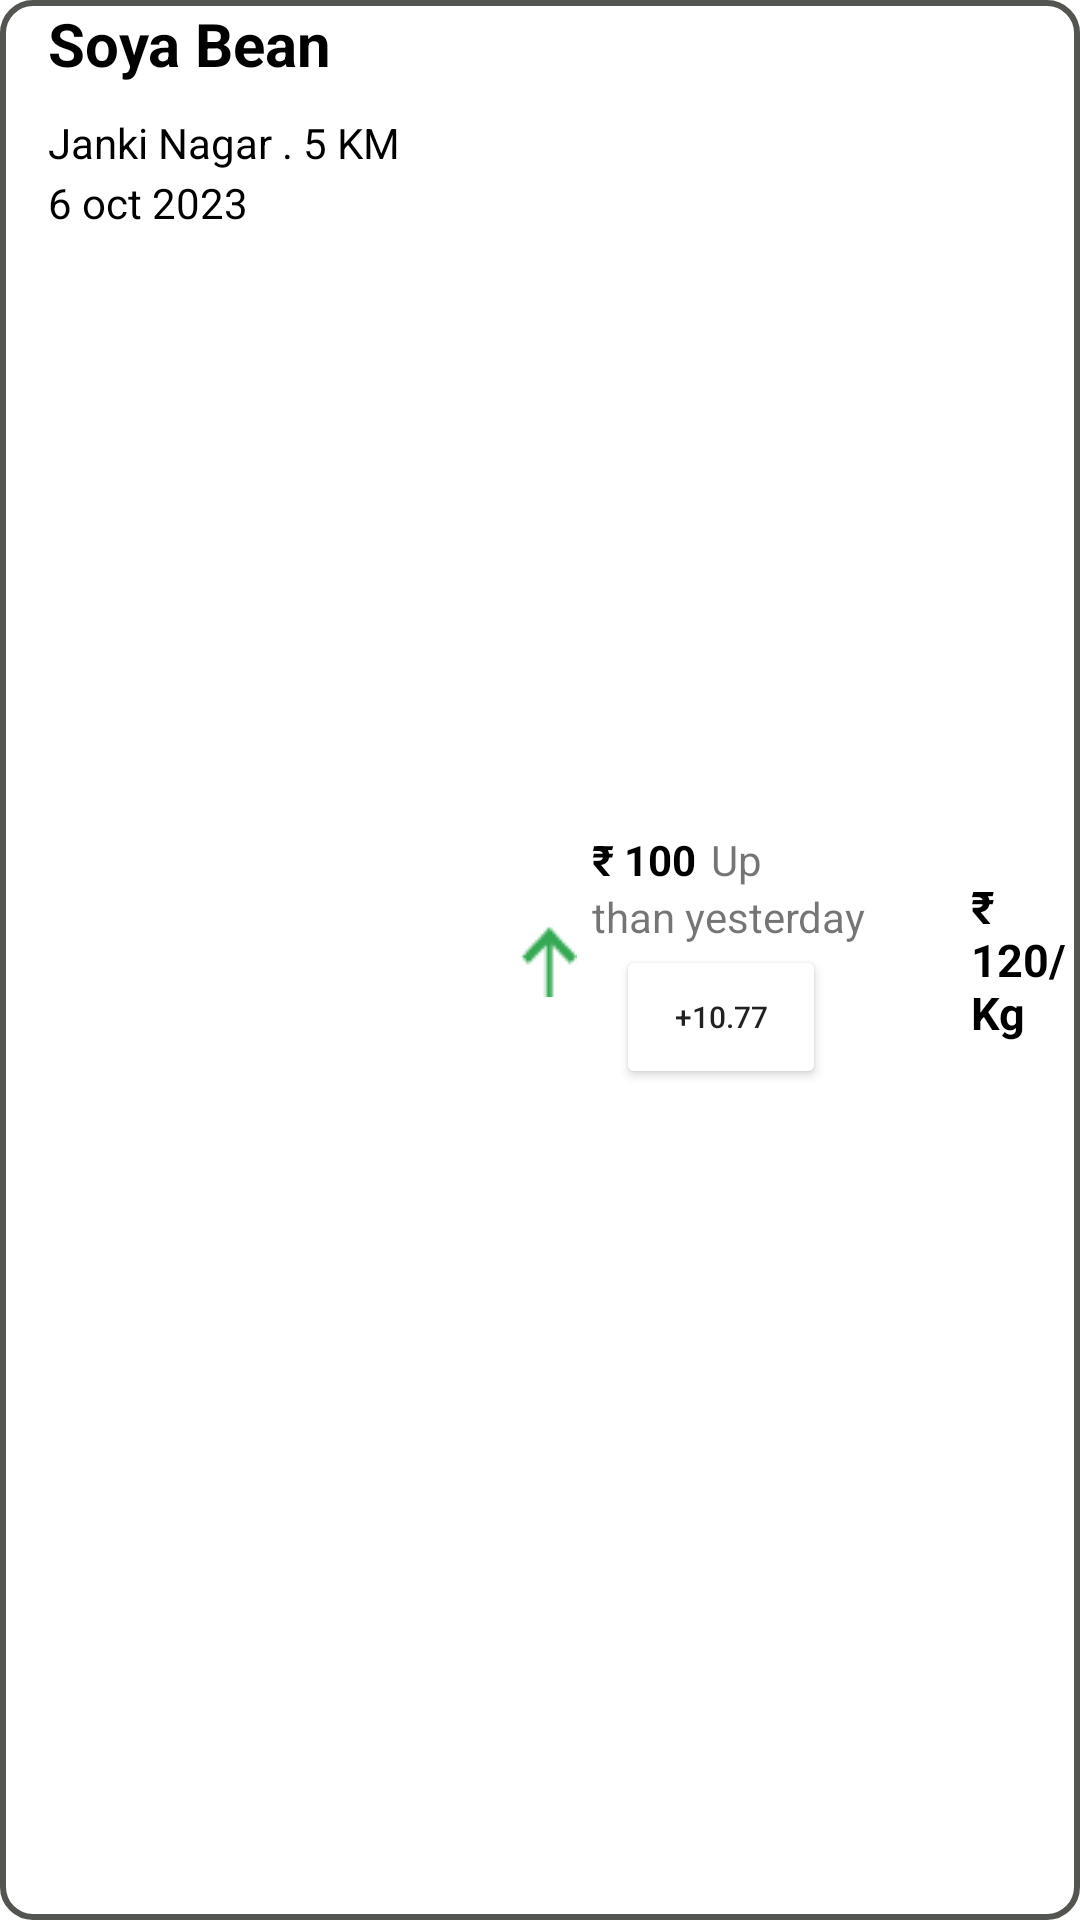

Point at icon controls on the screen. Image size 1080w x 1920h, points as (x,y).
upward arrow: (549,962)
